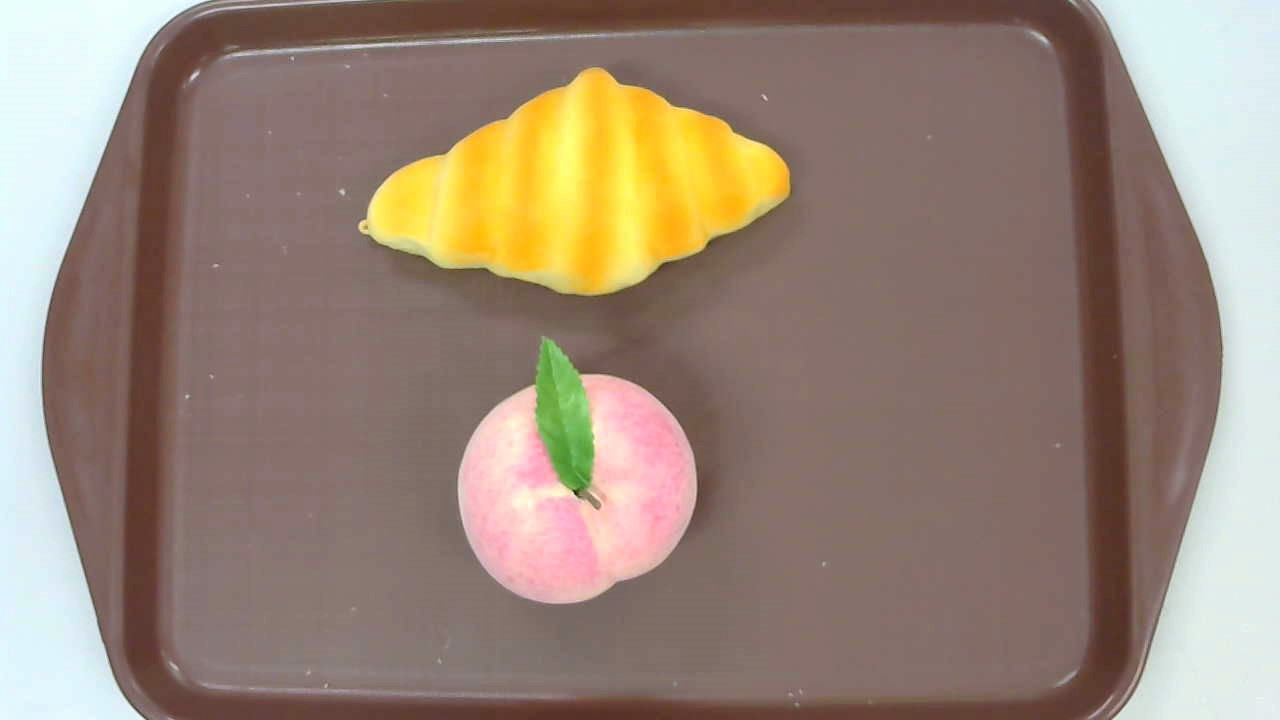croissant: (357, 67, 792, 297)
peach: (456, 335, 697, 604)
